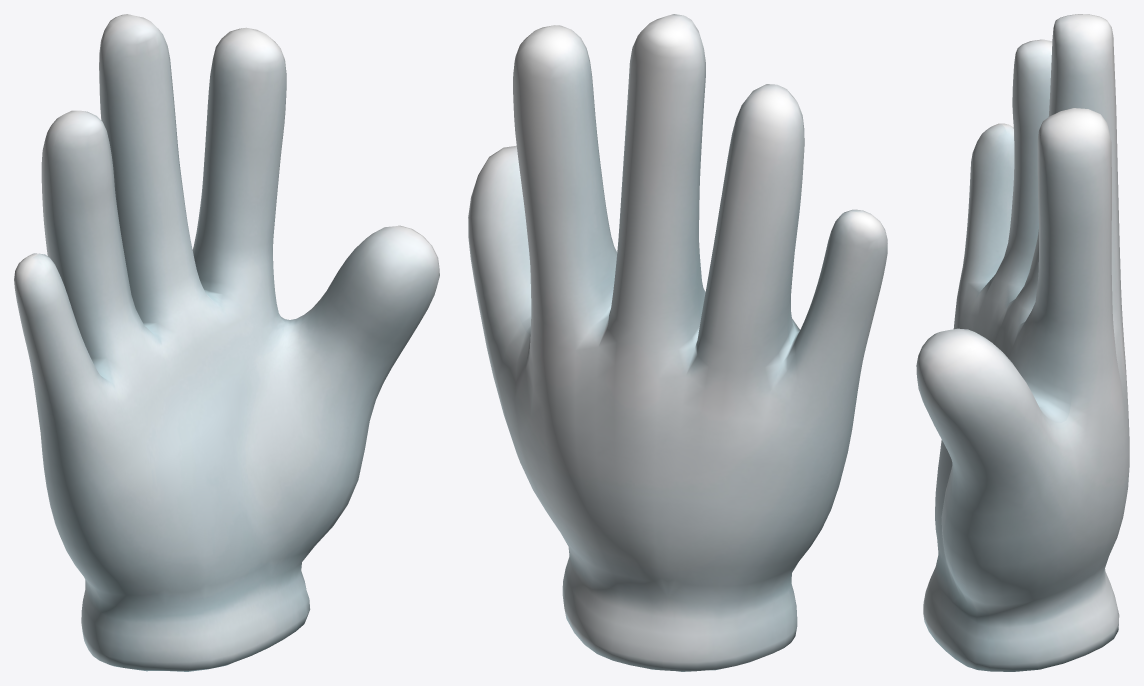
Rendered from 新汉字-手套.FBX.
The picture shows the model from 3 angles, left to right: view 1: azimuth 30°, elevation 25°; view 2: azimuth 150°, elevation 25°; view 3: azimuth 270°, elevation 25°; orthographic projection. The views are drawn at different scales.
Visible parts, largest first — view 1: 新汉字-手套; view 2: 新汉字-手套; view 3: 新汉字-手套.
Boxes of the visible parts, bbox=[...] form: 新汉字-手套: bbox=[14, 14, 439, 671]; 新汉字-手套: bbox=[468, 14, 887, 671]; 新汉字-手套: bbox=[916, 14, 1129, 671].
Size of the model in its own units: 16.82 by 24.33 by 7.8.
1 material, 1 textured.
